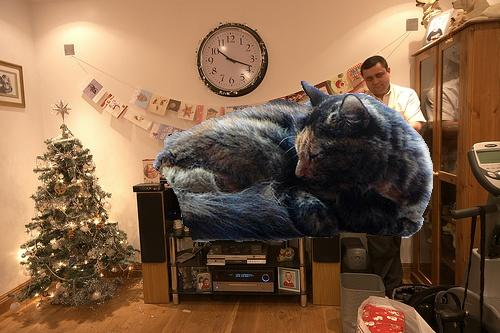tampered: (153, 82, 433, 242)
